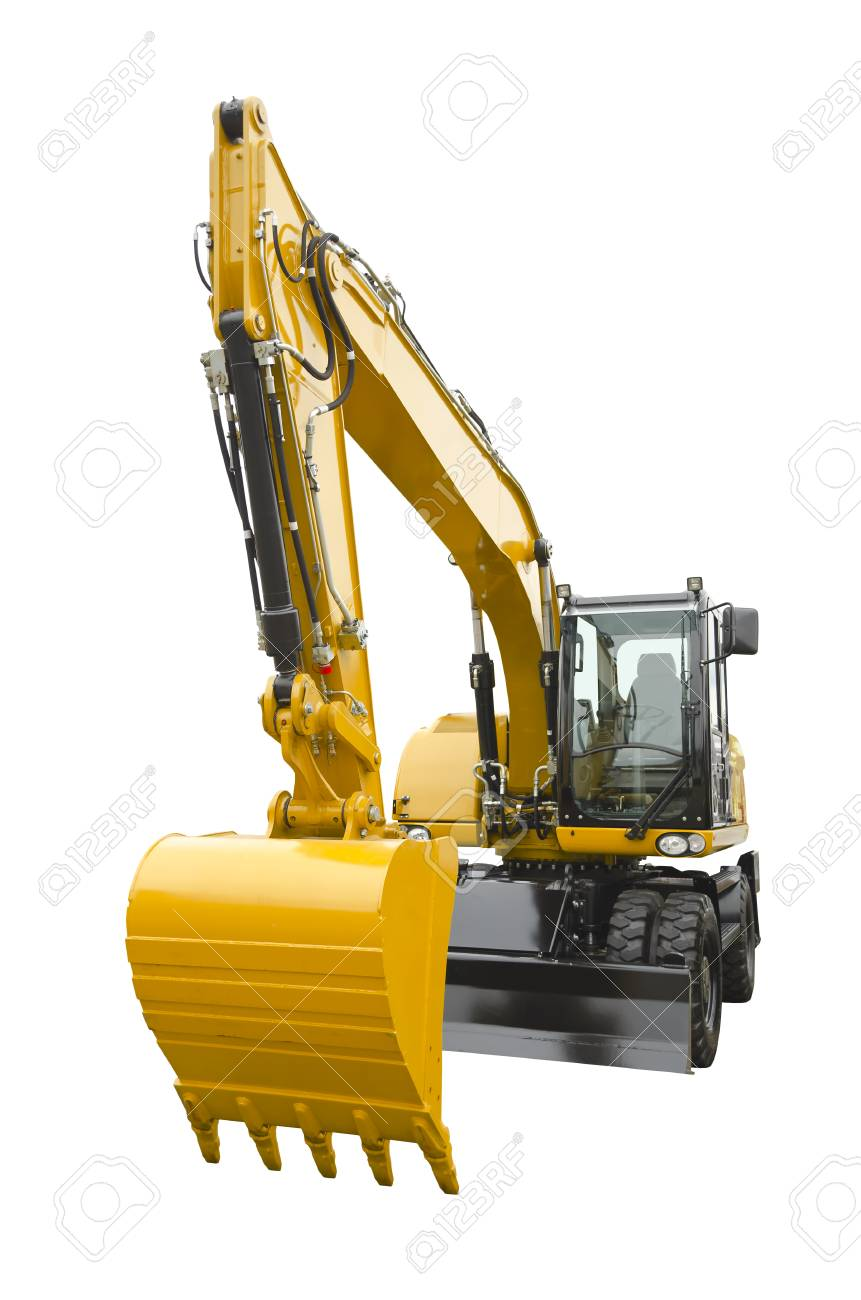backhoe: (119, 83, 779, 1205)
